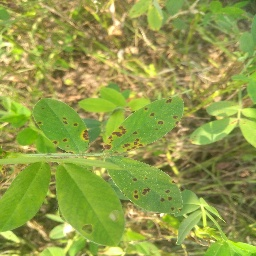GroundNut_Leaf: (56, 162, 122, 246), (104, 98, 184, 154), (124, 157, 184, 215), (33, 96, 89, 155), (1, 163, 47, 232), (189, 117, 236, 144), (176, 219, 206, 246), (208, 240, 256, 256), (1, 103, 26, 127), (211, 3, 247, 18), (239, 118, 256, 149), (208, 102, 240, 114), (240, 30, 256, 53), (99, 85, 126, 97), (128, 1, 147, 18), (166, 1, 184, 15), (149, 7, 159, 32), (249, 74, 256, 103)
